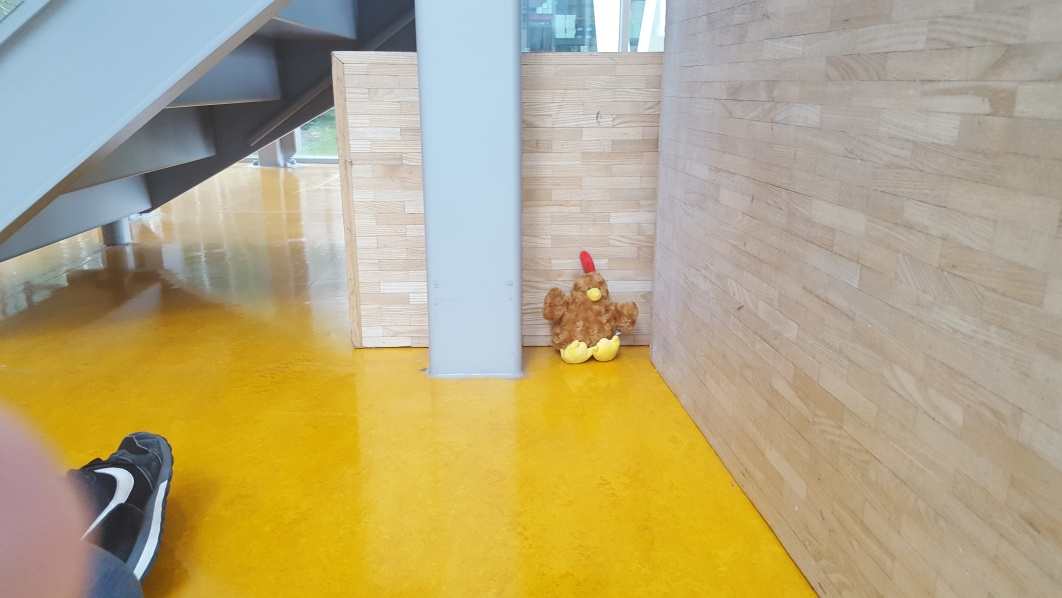chicken: (545, 251, 640, 364)
